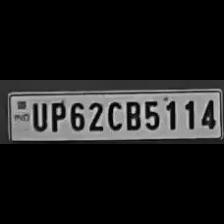1: (180, 96, 196, 130), (162, 97, 178, 130)
2: (86, 98, 104, 132)
4: (197, 96, 217, 130)
5: (142, 97, 160, 131)
6: (67, 98, 85, 132)
B: (122, 97, 142, 130)
C: (104, 97, 122, 130)
P: (47, 98, 65, 132)
U: (28, 98, 48, 132)
